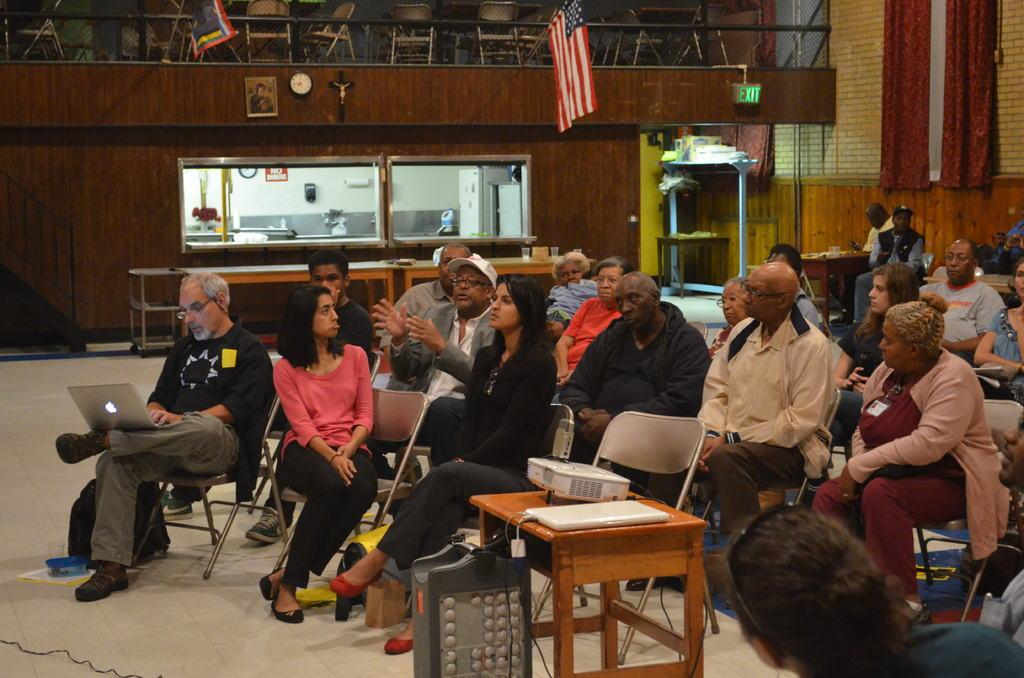Laptop: (66, 381, 173, 432)
